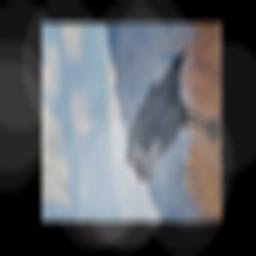Crow: (121, 49, 219, 183)
